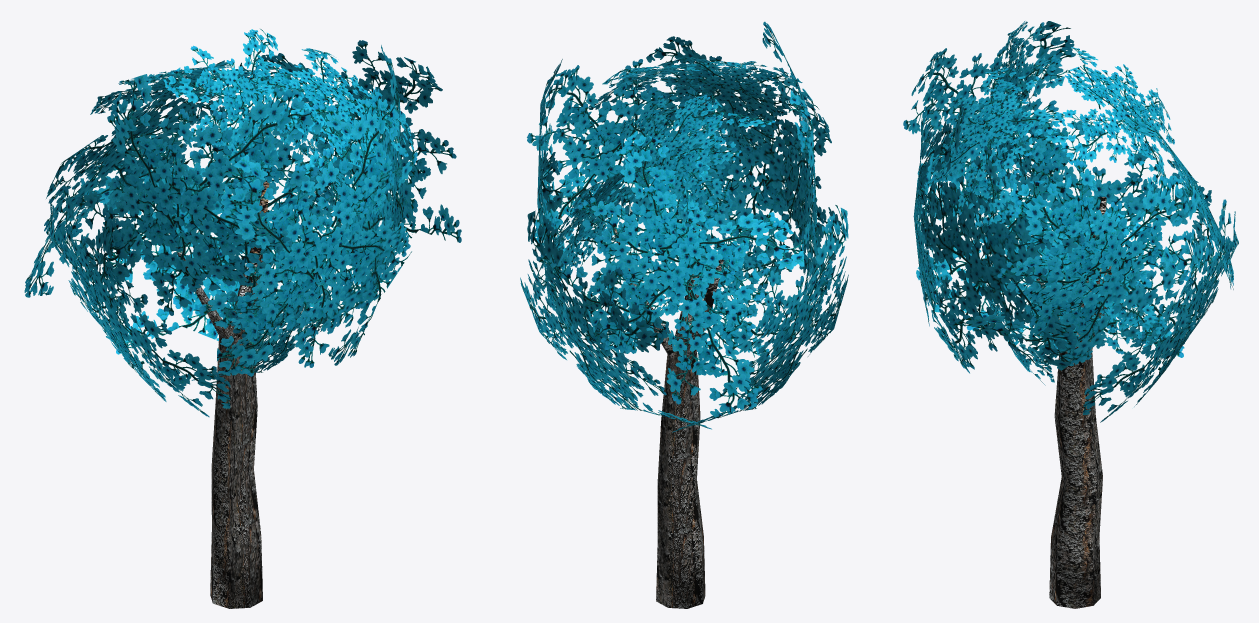
Rendered from arbol azul.fbx.
The picture shows the model from 3 angles, left to right: view 1: azimuth 30°, elevation 25°; view 2: azimuth 150°, elevation 25°; view 3: azimuth 270°, elevation 25°; orthographic projection. The views are drawn at different scales.
Parts seen in each view (by area): view 1: Plane002, Plane005, Cylinder001, Plane011, Plane009, Plane010, Plane006, Plane004, Plane013, Plane003, Plane012, Plane008 (+1 smaller); view 2: Plane010, Cylinder001, Plane003, Plane013, Plane002, Plane011, Plane012, Plane006, Plane005, Plane008, Plane009, Plane007 (+1 smaller); view 3: Plane009, Plane003, Cylinder001, Plane005, Plane004, Plane013, Plane012, Plane011, Plane007, Plane002, Plane006, Plane010 (+1 smaller).
Boxes of the visible parts, bbox=[...] form: Plane002: bbox=[199, 91, 417, 376]; Plane005: bbox=[76, 74, 321, 338]; Cylinder001: bbox=[169, 180, 269, 608]; Plane011: bbox=[46, 186, 230, 417]; Plane009: bbox=[238, 40, 461, 270]; Plane010: bbox=[24, 60, 264, 297]; Plane006: bbox=[163, 29, 320, 195]; Plane004: bbox=[241, 48, 413, 177]; Plane013: bbox=[80, 110, 387, 354]; Plane003: bbox=[313, 45, 403, 365]; Plane012: bbox=[90, 65, 303, 124]; Plane008: bbox=[191, 235, 339, 380]; Plane010: bbox=[536, 131, 804, 417]; Cylinder001: bbox=[614, 224, 723, 608]; Plane003: bbox=[527, 56, 739, 296]; Plane013: bbox=[520, 207, 711, 429]; Plane002: bbox=[645, 36, 846, 295]; Plane011: bbox=[672, 205, 848, 432]; Plane012: bbox=[614, 93, 775, 227]; Plane006: bbox=[639, 57, 815, 161]; Plane005: bbox=[757, 21, 818, 308]; Plane008: bbox=[613, 210, 792, 362]; Plane009: bbox=[537, 59, 595, 349]; Plane007: bbox=[533, 155, 659, 296]; Plane009: bbox=[948, 161, 1200, 370]; Plane003: bbox=[919, 102, 1084, 370]; Cylinder001: bbox=[1027, 196, 1111, 608]; Plane005: bbox=[903, 21, 1103, 295]; Plane004: bbox=[924, 67, 1070, 226]; Plane013: bbox=[1083, 199, 1238, 422]; Plane012: bbox=[1057, 47, 1174, 194]; Plane011: bbox=[916, 131, 1211, 357]; Plane007: bbox=[987, 206, 1167, 354]; Plane002: bbox=[913, 90, 969, 373]; Plane006: bbox=[984, 21, 1067, 187]; Plane010: bbox=[1123, 106, 1233, 289].
Size of the model in its own units: 2.46 by 3.81 by 2.2.
Materials: 2 (2 with a texture image).
